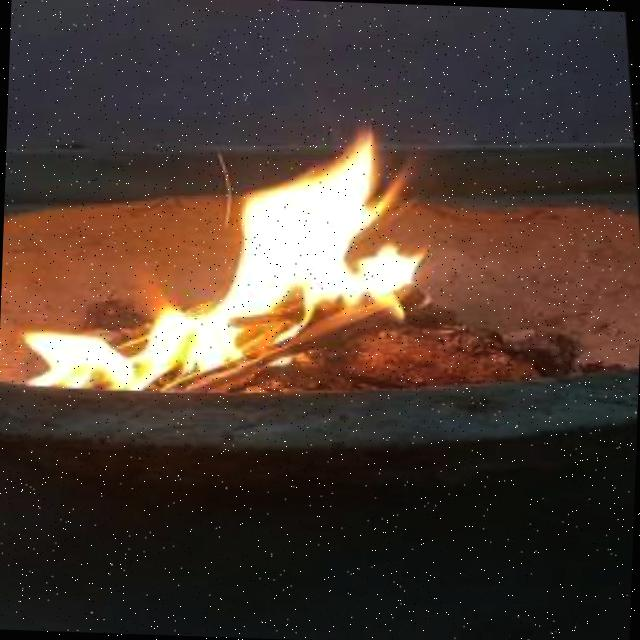fire: (0, 72, 487, 405)
